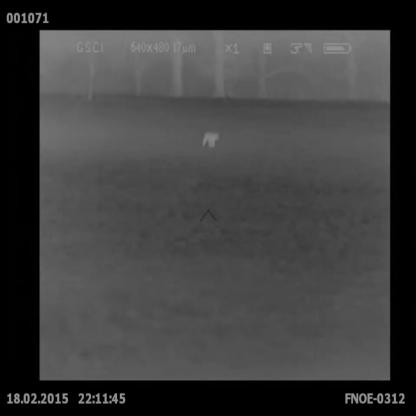rehkitze: (200, 128, 224, 151)
